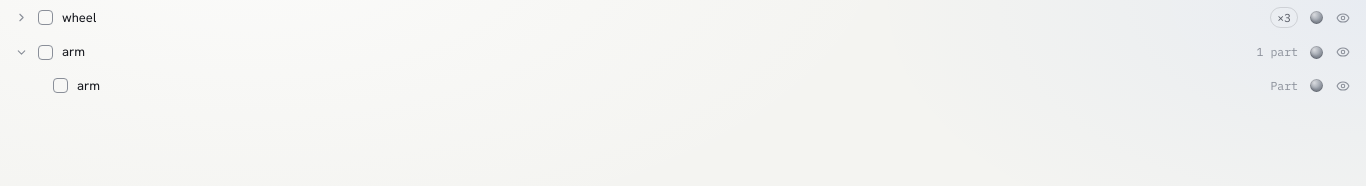
Scenario: AssemblyTree occurrences + joints › expanding shows the frame list with a mirror tag
The width and height of the screenshot is (1366, 186).
Click the button named "Show wheel placements": click(22, 18) [14, 10, 29, 25]
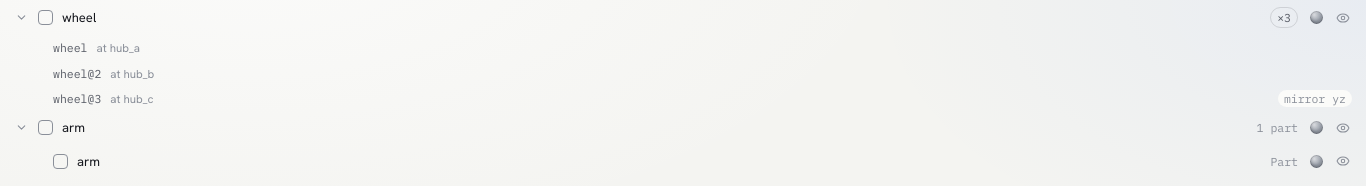
Expected: the text "wheel@2" is shown, [53, 64, 101, 82]
Expected: the text "wheel@3" is shown, [53, 90, 101, 107]
Expected: the text "at hub_a" is shown, [96, 39, 140, 57]
